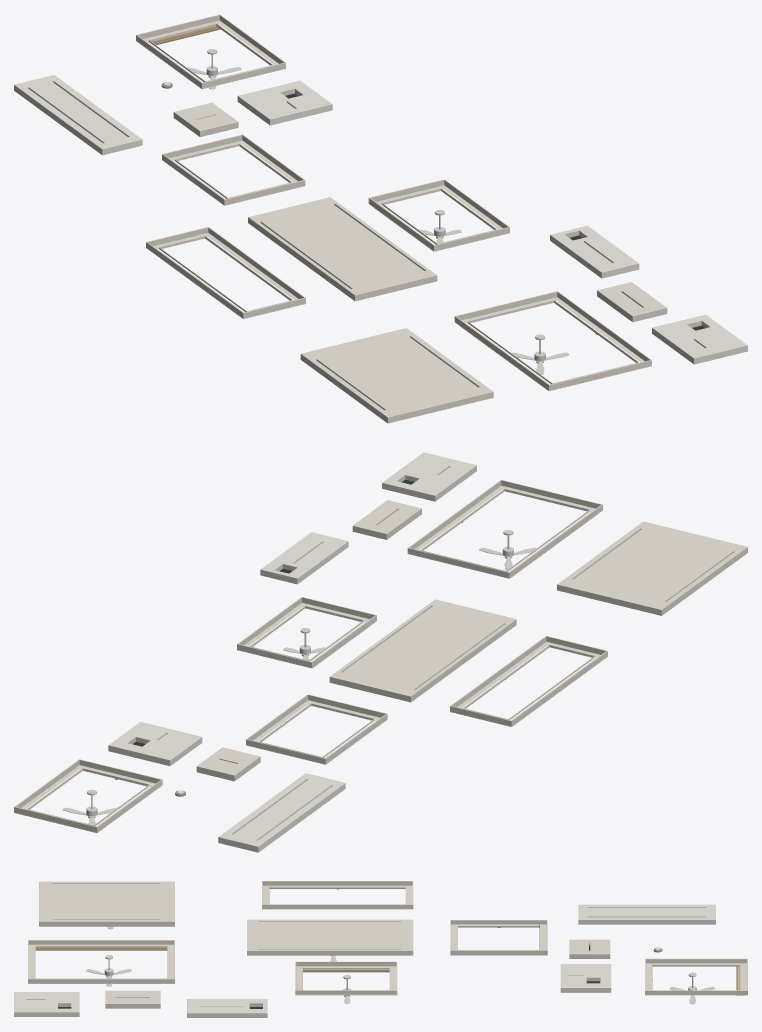
The picture shows the model from 3 angles, top to bottom: view 1: azimuth 30°, elevation 25°; view 2: azimuth 150°, elevation 25°; view 3: azimuth 270°, elevation 25°; orthographic projection. The views are drawn at different scales.
Parts seen in each view (by area): view 1: Ceiling CF warm plaster, Ceiling CF kitchen wet board, Ceiling CF white hardware, Ceiling CF warm LED, Ceiling plaster; view 2: Ceiling CF warm plaster, Ceiling CF kitchen wet board, Ceiling CF white hardware, Ceiling CF warm LED, Ceiling plaster; view 3: Ceiling CF warm plaster, Ceiling CF kitchen wet board, Ceiling CF light oak, Ceiling CF white hardware, Ceiling plaster.
Part boxes in pixels (<box>): Ceiling CF warm plaster: <box>136,14,667,423</box>; Ceiling CF kitchen wet board: <box>14,75,747,364</box>; Ceiling CF white hardware: <box>186,49,569,374</box>; Ceiling CF warm LED: <box>148,25,639,384</box>; Ceiling plaster: <box>52,81,709,387</box>; Ceiling CF warm plaster: <box>14,479,747,832</box>; Ceiling CF kitchen wet board: <box>108,452,476,852</box>; Ceiling CF white hardware: <box>62,530,535,824</box>; Ceiling CF warm LED: <box>26,490,595,826</box>; Ceiling plaster: <box>128,475,641,834</box>; Ceiling CF warm plaster: <box>28,881,747,1008</box>; Ceiling CF kitchen wet board: <box>14,904,715,1017</box>; Ceiling CF light oak: <box>35,948,744,995</box>; Ceiling CF white hardware: <box>86,926,715,1004</box>; Ceiling plaster: <box>52,916,705,1006</box>.
Size of the model in its own units: 7.23 by 0.5115 by 16.96.
